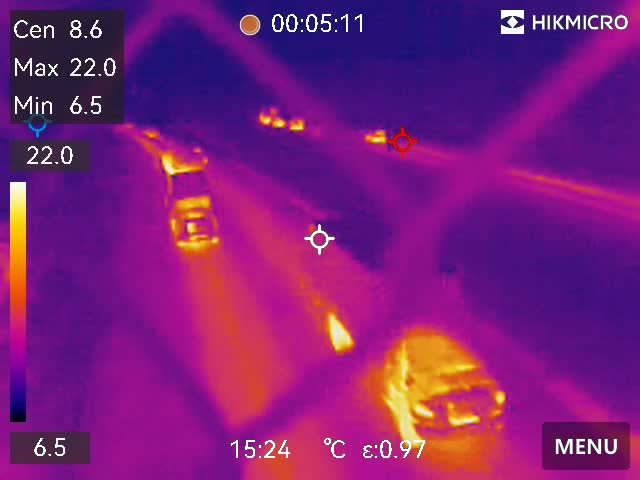heavyTruck: (155, 150, 221, 253)
